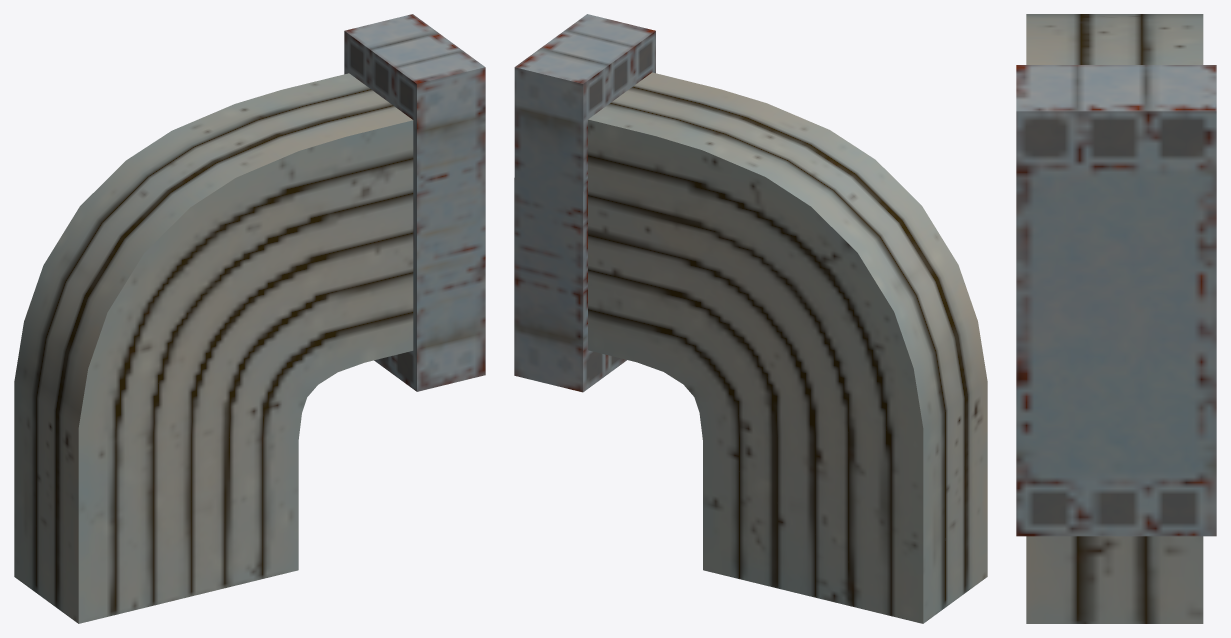
Rendered from Cable_04a_snaps019.fbx.
The picture shows the model from 3 angles, left to right: view 1: azimuth 30°, elevation 25°; view 2: azimuth 150°, elevation 25°; view 3: azimuth 270°, elevation 25°; orthographic projection. The views are drawn at different scales.
Visible parts, largest first — view 1: Cable_04a_snaps019_LOD0; view 2: Cable_04a_snaps019_LOD0; view 3: Cable_04a_snaps019_LOD0.
Boxes of the visible parts, <box> form: Cable_04a_snaps019_LOD0: <box>14,14,485,623</box>; Cable_04a_snaps019_LOD0: <box>514,14,987,623</box>; Cable_04a_snaps019_LOD0: <box>1016,14,1216,623</box>.
Size of what is drawn, in the model's own units: 16.5 by 18.02 by 5.15.
